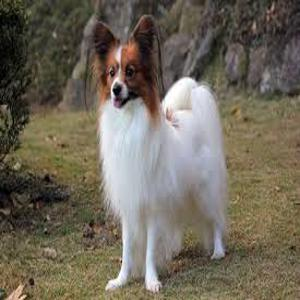yell: (90, 15, 226, 292)
